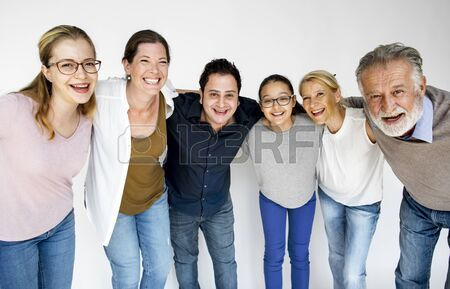person: (11, 16, 111, 182), (355, 40, 450, 210), (169, 32, 256, 188), (97, 8, 177, 169), (298, 65, 376, 208), (247, 58, 314, 187)
